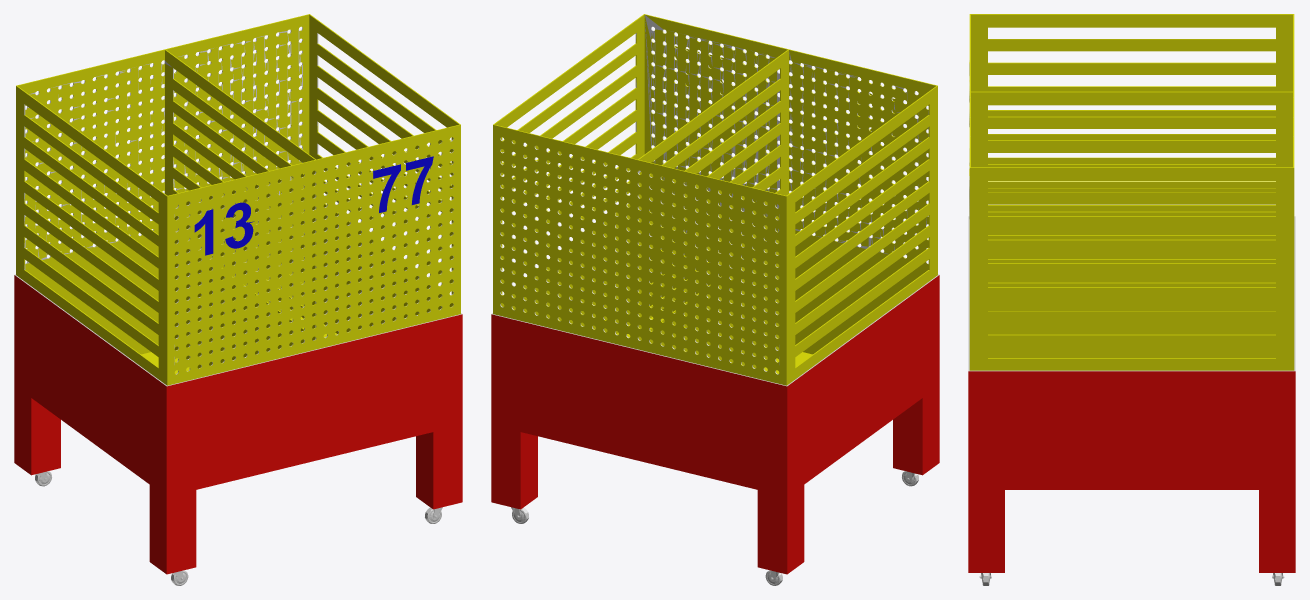
The model's file is plotyuk.dae.
The picture shows the model from 3 angles, left to right: view 1: azimuth 30°, elevation 25°; view 2: azimuth 150°, elevation 25°; view 3: azimuth 270°, elevation 25°; orthographic projection. The views are drawn at different scales.
Visible parts, largest first — view 1: PlotYuk; view 2: PlotYuk; view 3: PlotYuk.
Part boxes in pixels (x1,y1,x2,y2): PlotYuk: [14, 14, 462, 585]; PlotYuk: [491, 14, 939, 585]; PlotYuk: [968, 14, 1295, 585].
Bounding box in the file's own units: 1.4 × 1.25 × 1.8.
